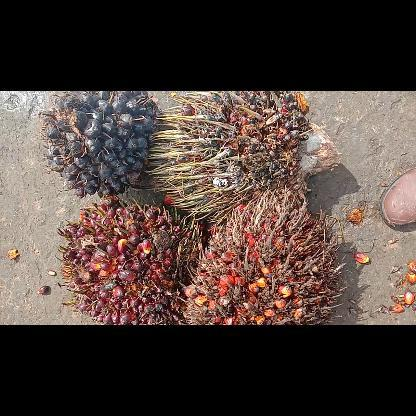TBS abnormal: (150, 91, 342, 216)
TBS masak: (59, 196, 203, 324)
TBS mentah: (41, 93, 160, 197)
Terlalu masak: (182, 186, 338, 324)
